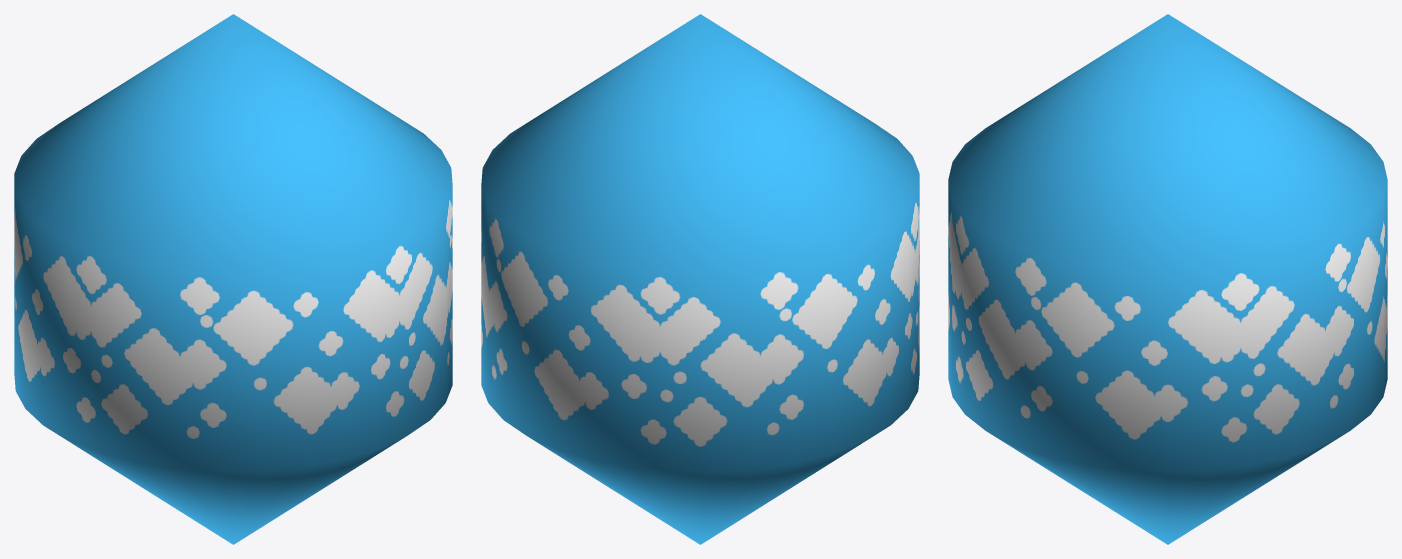
File: Sky Box.dae
The picture shows the model from 3 angles, left to right: view 1: azimuth 30°, elevation 25°; view 2: azimuth 150°, elevation 25°; view 3: azimuth 270°, elevation 25°; orthographic projection.
Parts seen in each view (by area): view 1: Sky; view 2: Sky; view 3: Sky.
Part boxes in pixels (x1,y1,x2,y2): Sky: (14, 14, 452, 544); Sky: (481, 14, 919, 544); Sky: (948, 14, 1387, 544).
Size of the model in its own units: 24000 by 32000 by 24000.
Materials: 1 (1 with a texture image).
